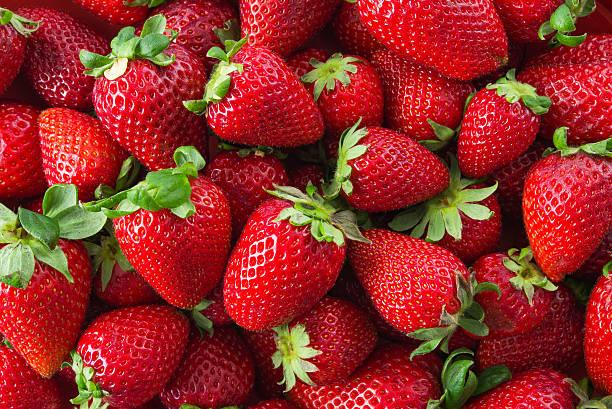strawberry: (349, 225, 502, 362), (88, 16, 214, 180), (112, 168, 235, 309), (226, 193, 346, 334), (2, 200, 87, 381), (211, 36, 328, 158), (355, 0, 510, 83), (5, 0, 117, 112), (525, 147, 612, 285), (244, 292, 373, 384), (328, 120, 450, 213), (80, 306, 186, 409), (29, 99, 132, 201), (455, 75, 545, 184), (169, 322, 259, 409), (520, 58, 612, 139), (286, 362, 441, 409), (468, 249, 549, 331), (446, 366, 595, 409), (232, 0, 344, 54), (312, 49, 386, 127), (492, 0, 597, 49), (2, 96, 42, 200), (582, 266, 612, 390)
